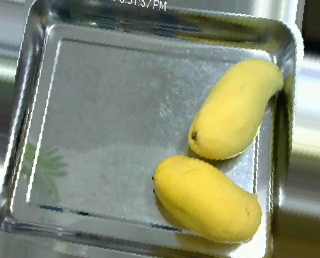Mango: (184, 51, 287, 162), (150, 153, 266, 248)
